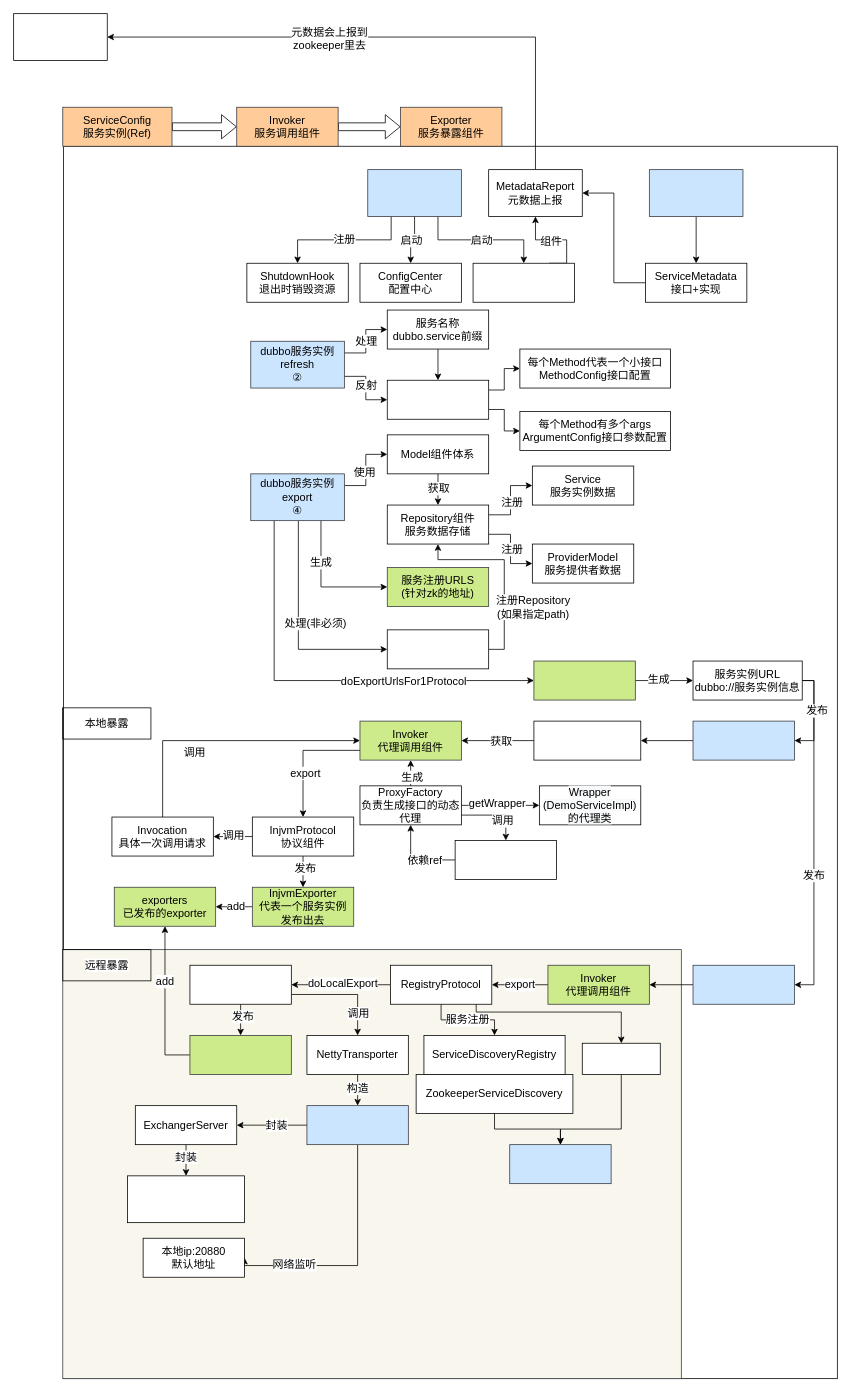
Some shapes in this 851 by 1392 pixel diagram are drawn without their labels. Each missing label, with the box of its shape:
DemoServiceImpl 自己的实现类: (454, 840, 557, 879)
DubboExporter 代表一个服务实例发布出去: (189, 1035, 291, 1074)
DubboProtocol: (189, 964, 291, 1004)
DubboProtolcolServer 组件体系: (127, 1175, 245, 1223)
dubbo服务实例 init ③: (649, 169, 743, 216)
exportLocal 本地服务实例 发布(默认优先): (692, 720, 794, 760)
exportRemote 远程服务实例 发布: (692, 964, 794, 1004)
LocalURL injvm://服务实例信息: (533, 720, 641, 760)
MetadataCenter 元数据中心: (472, 262, 574, 302)
ModuleDeployer prepare ①: (367, 169, 461, 216)
Zookeeper 注册中心: (13, 13, 107, 60)
启动NettyServer (基于netty4): (306, 1105, 408, 1145)
暴露 接口信息: (386, 629, 489, 669)
服务接口Class 接口中的Methods: (386, 379, 489, 419)
服务注册URL: (581, 1042, 660, 1074)
服务注册流程: (509, 1144, 611, 1184)
核心发布流程: (533, 660, 635, 700)
